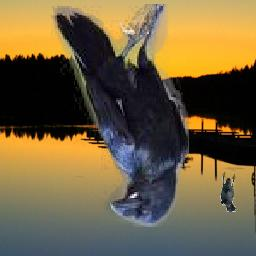Crow: (51, 5, 189, 228), (220, 172, 236, 212)
